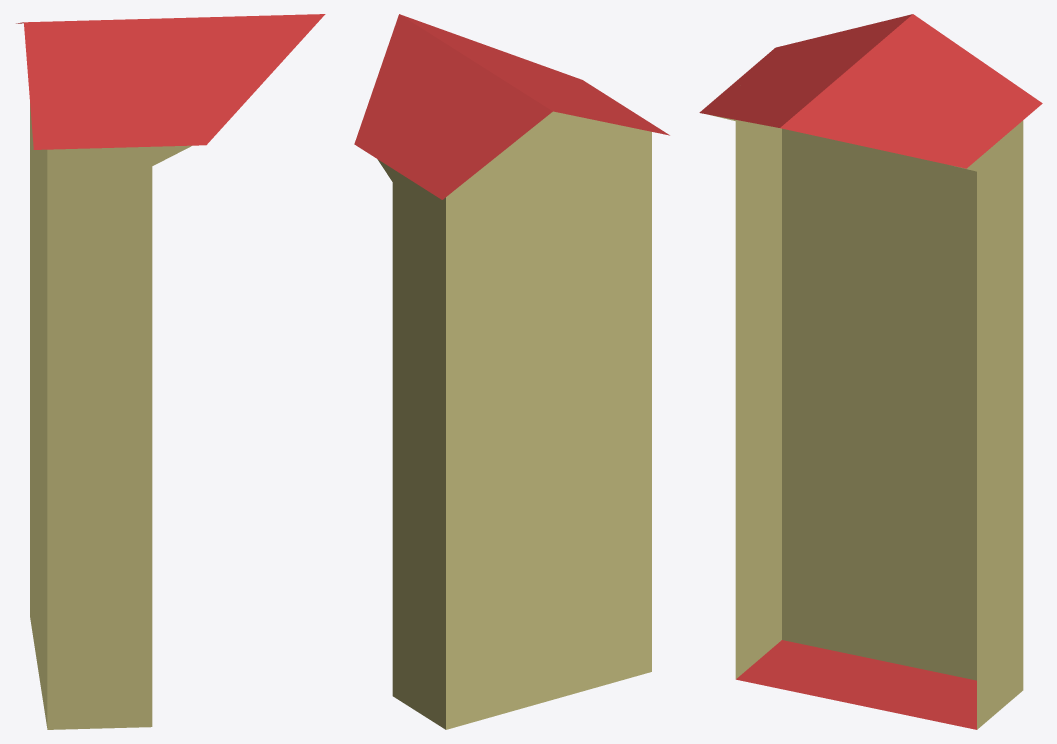
3 renders of one model, left to right at view 1: azimuth 30°, elevation 25°; view 2: azimuth 150°, elevation 25°; view 3: azimuth 270°, elevation 25°, orthographic. The views are drawn at different scales.
Bounding box in the file's own units: 5.8 × 5.9 × 12.25.
